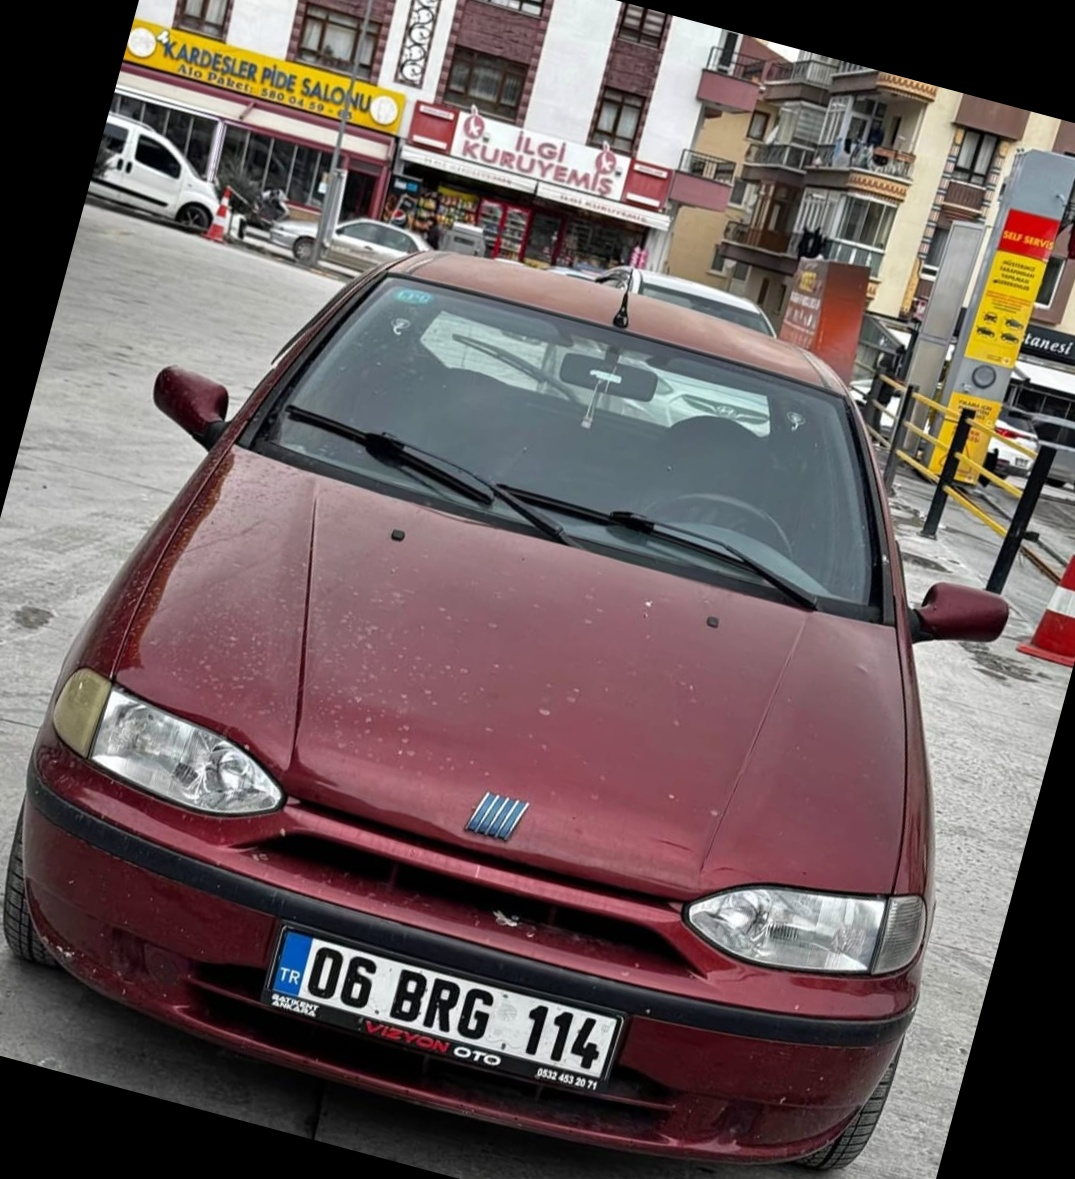plaka: (289, 942, 629, 1081)
